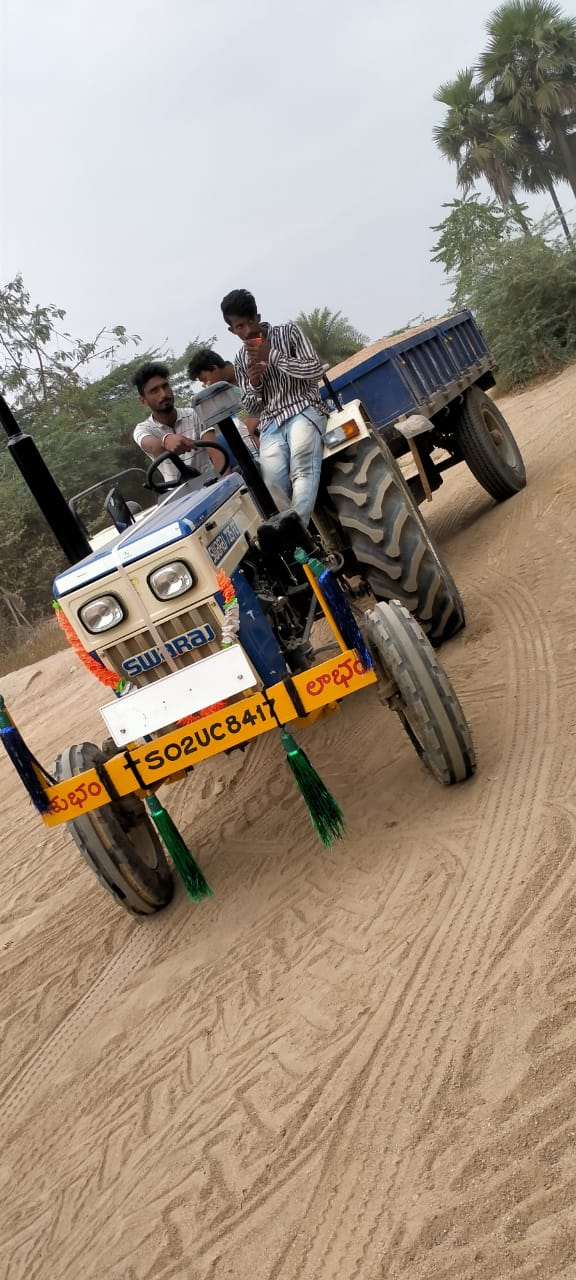num_plate: (109, 690, 288, 796)
